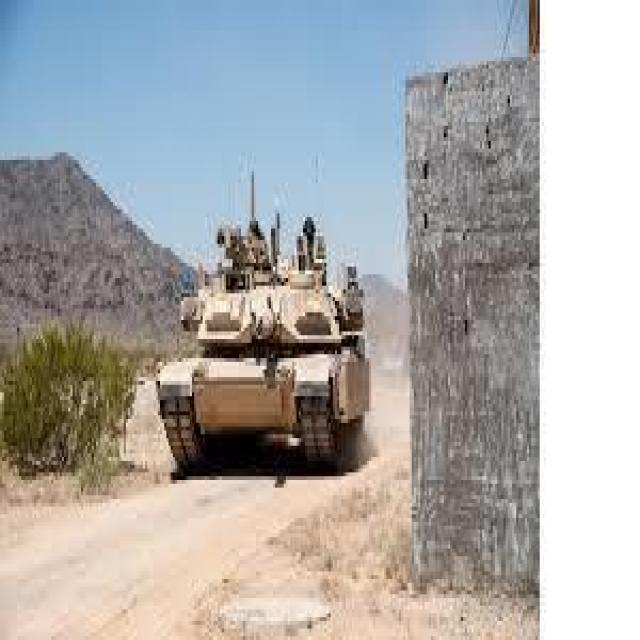Tanks: (154, 234, 384, 501)
